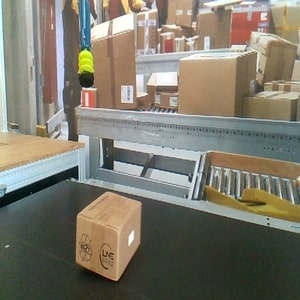box: (74, 191, 143, 282)
